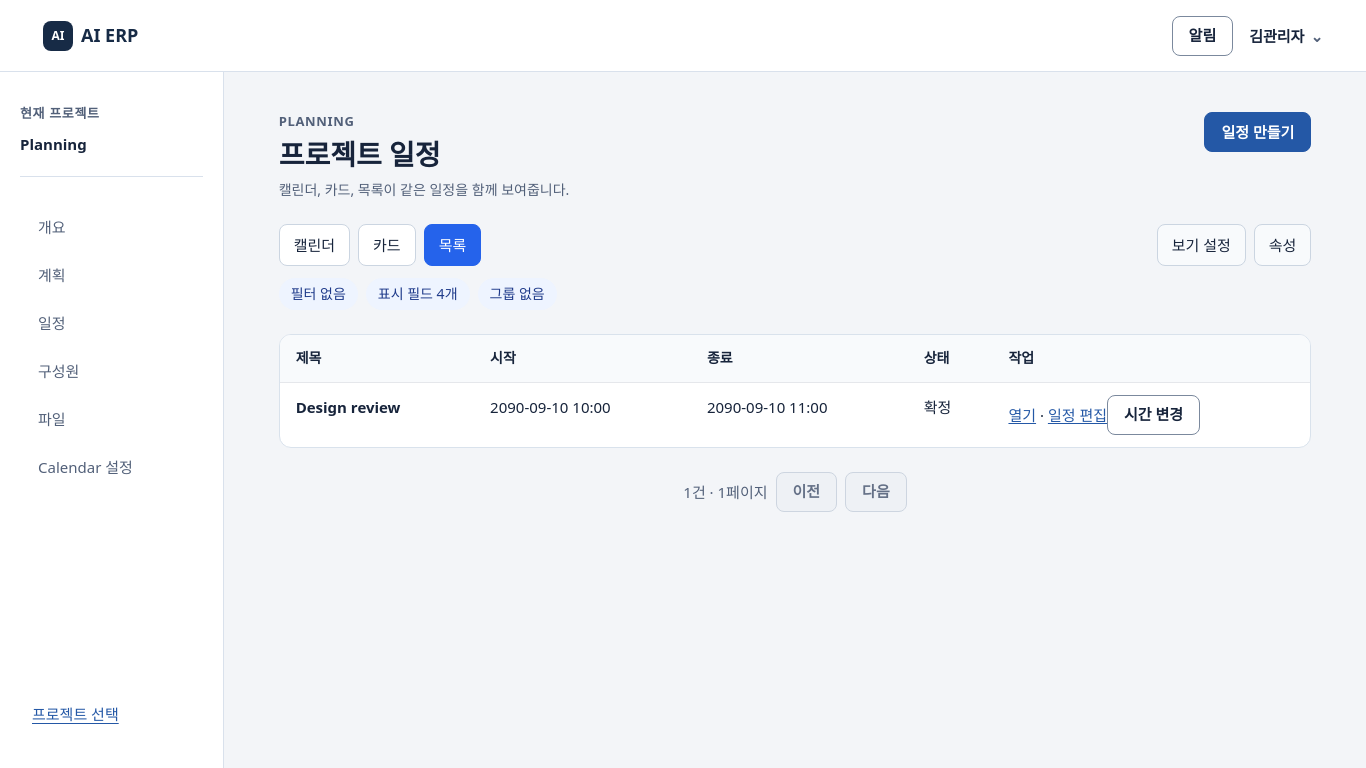
it: List uncertain committed outcome is resolved without replay and requires fresh re-entry
Click the button with aria-label "시간 변경: Design review".
click(1154, 415)  # box [1107,395,1200,435]
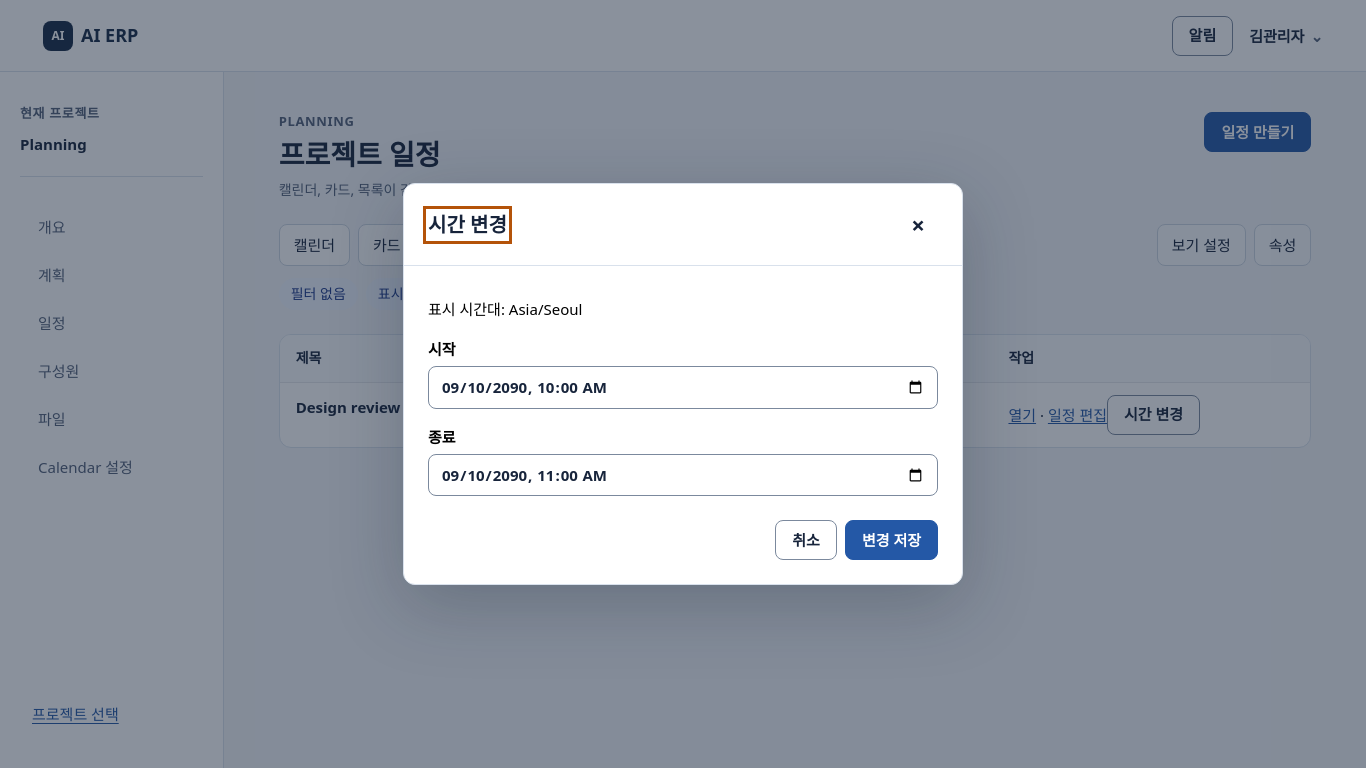
Replace the text in the field labelled "시작" with "2090-09-10T10:30" at (683, 388), box [428,366,938,409]
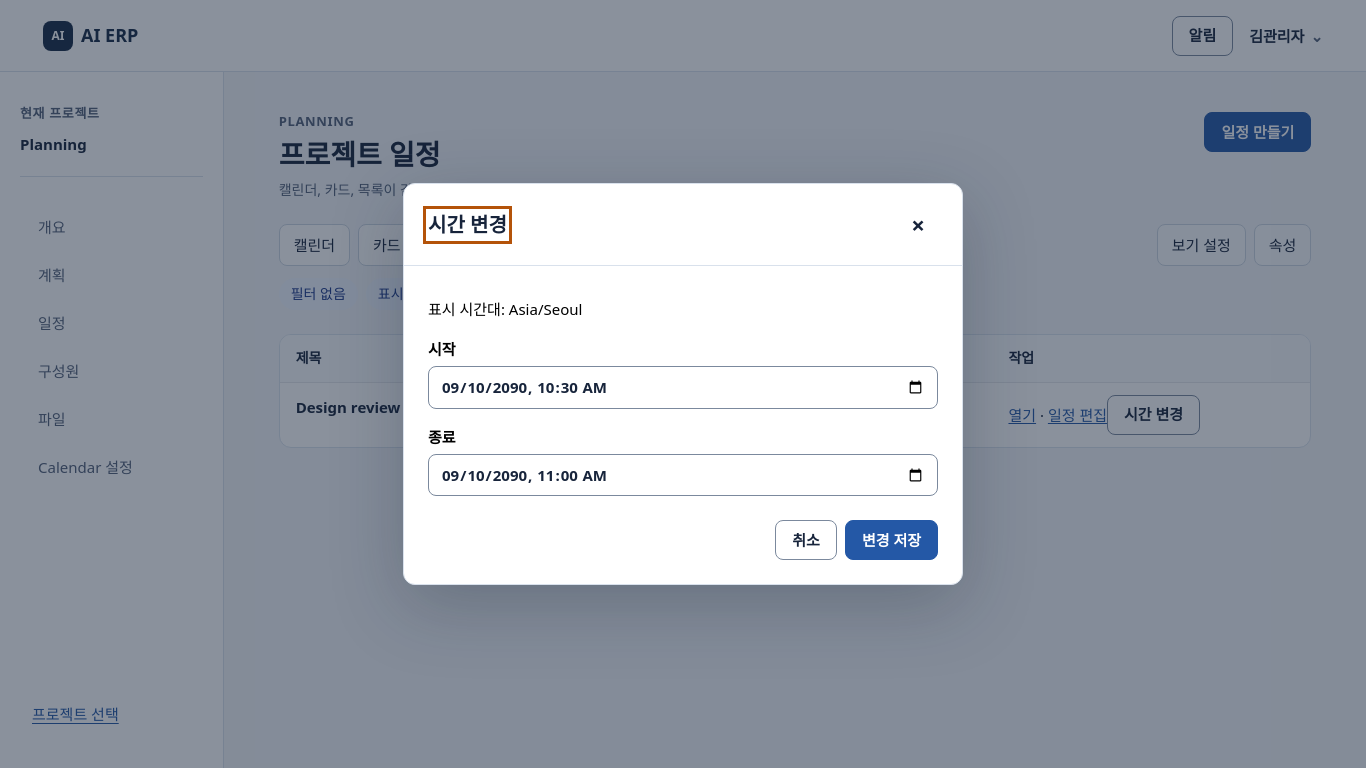
Click the button "변경 저장".
click(891, 540)  # box [845,520,938,560]
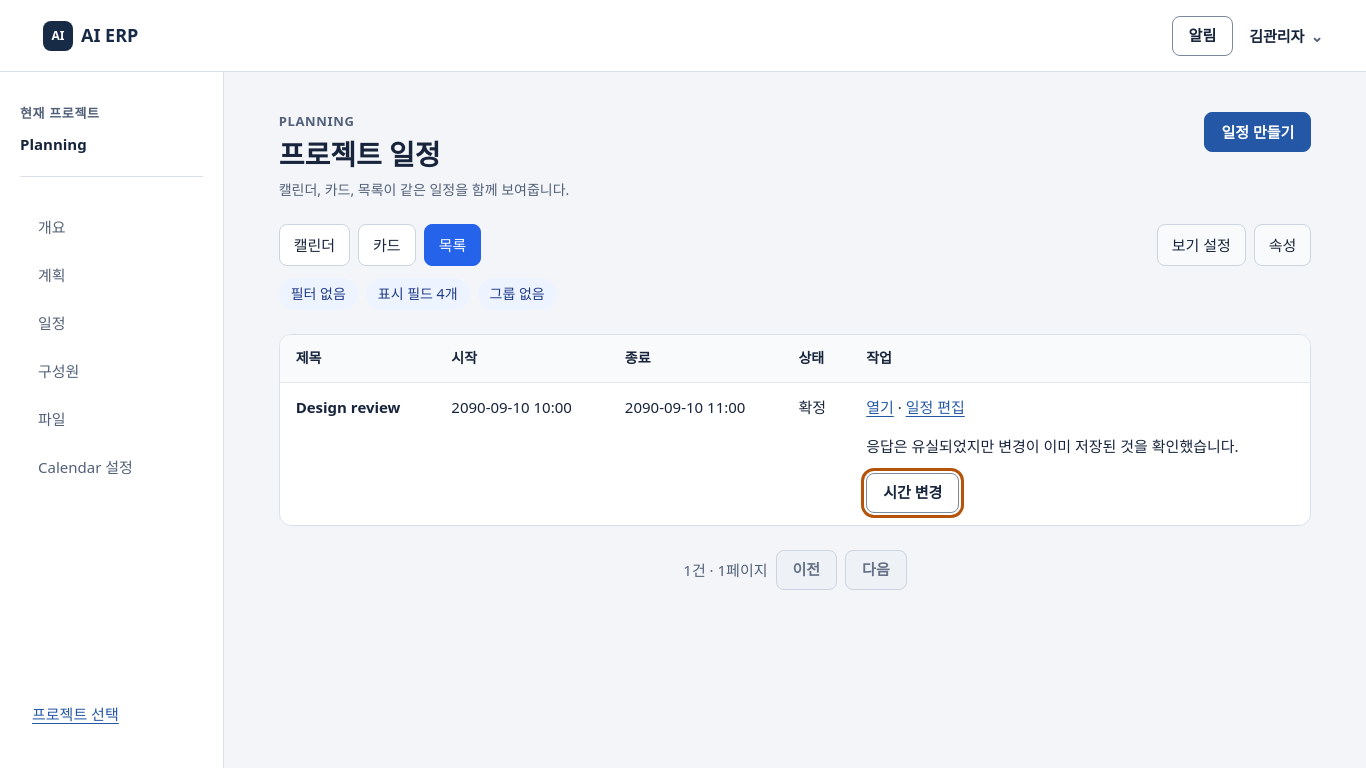
Expected: the message shows "이미 저장된 것을 확인했습니다", [866,436,1239,456]
